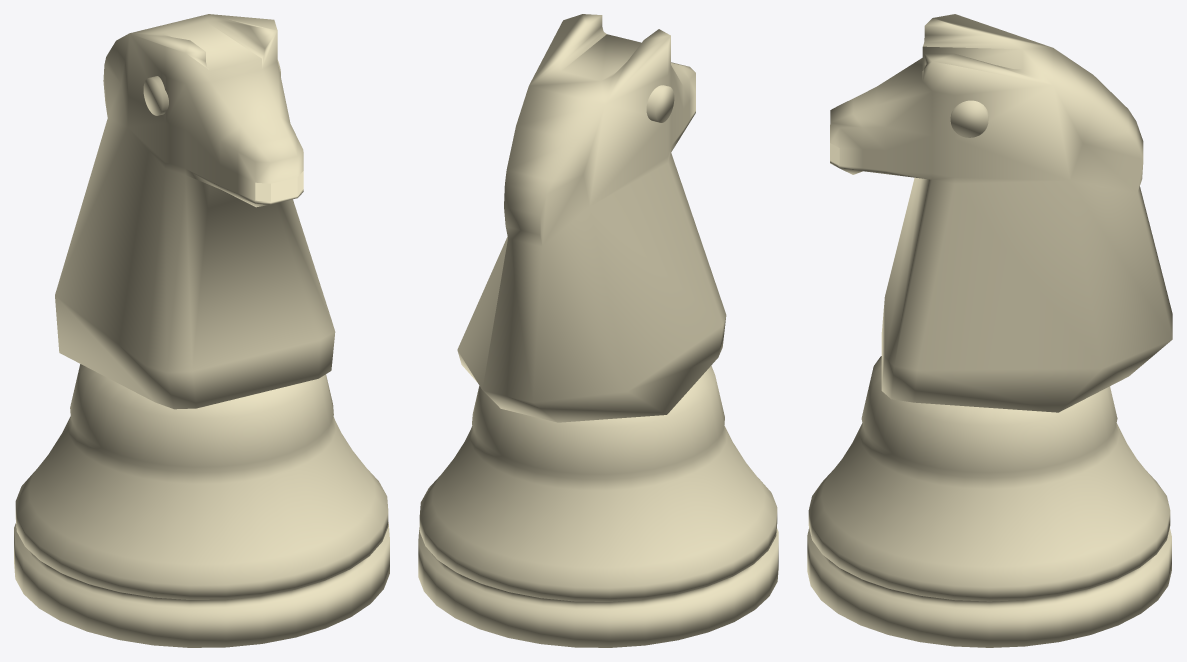
The picture shows the model from 3 angles, left to right: view 1: azimuth 30°, elevation 25°; view 2: azimuth 150°, elevation 25°; view 3: azimuth 270°, elevation 25°; orthographic projection. The views are drawn at different scales.
Parts seen in each view (by area): view 1: knight_white; view 2: knight_white; view 3: knight_white.
Part boxes in pixels (left/top/right/bottom): knight_white: left=14, top=14, right=389, bottom=647; knight_white: left=418, top=14, right=778, bottom=647; knight_white: left=807, top=14, right=1172, bottom=647.
Bounding box in the file's own units: 1.3 × 2.09 × 1.3.
